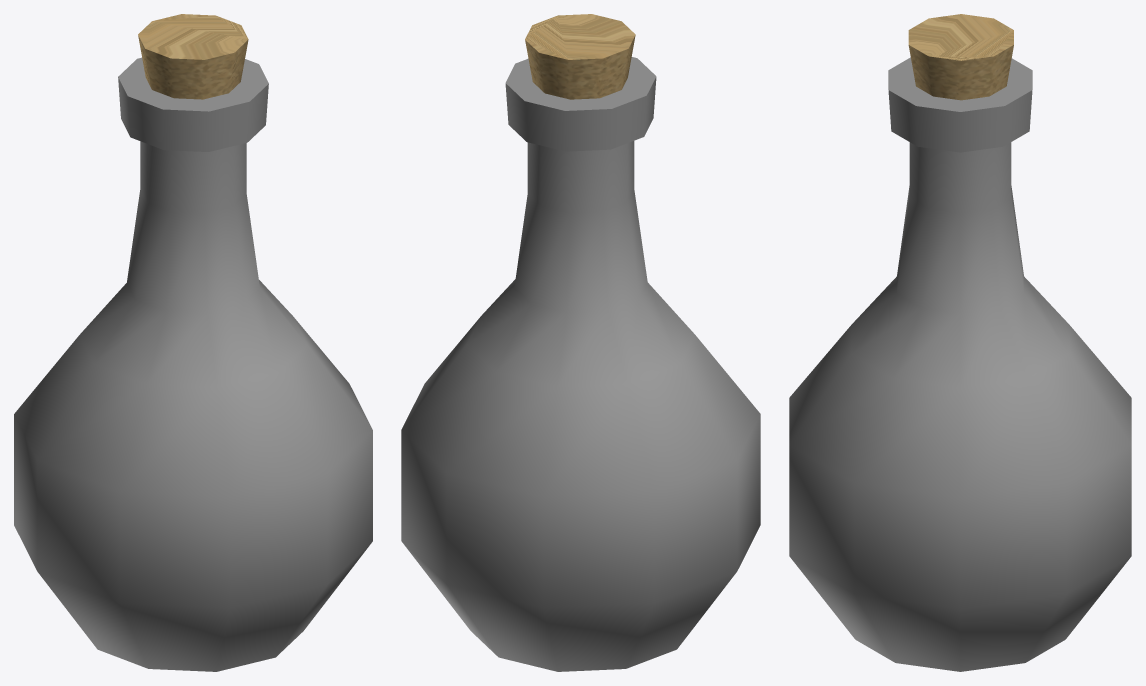
The model's file is BottleOfPotion.FBX.
The picture shows the model from 3 angles, left to right: view 1: azimuth 30°, elevation 25°; view 2: azimuth 150°, elevation 25°; view 3: azimuth 270°, elevation 25°; orthographic projection.
Visible parts, largest first — view 1: Bottle, Cork; view 2: Bottle, Cork; view 3: Bottle, Cork.
Part boxes in pixels (bbox=[...]): Bottle: bbox=[14, 57, 372, 671]; Cork: bbox=[138, 14, 248, 99]; Bottle: bbox=[401, 57, 760, 671]; Cork: bbox=[525, 14, 635, 99]; Bottle: bbox=[789, 57, 1131, 671]; Cork: bbox=[908, 14, 1013, 100].
Bounding box in the file's own units: 11.18 × 21.23 × 10.63.
